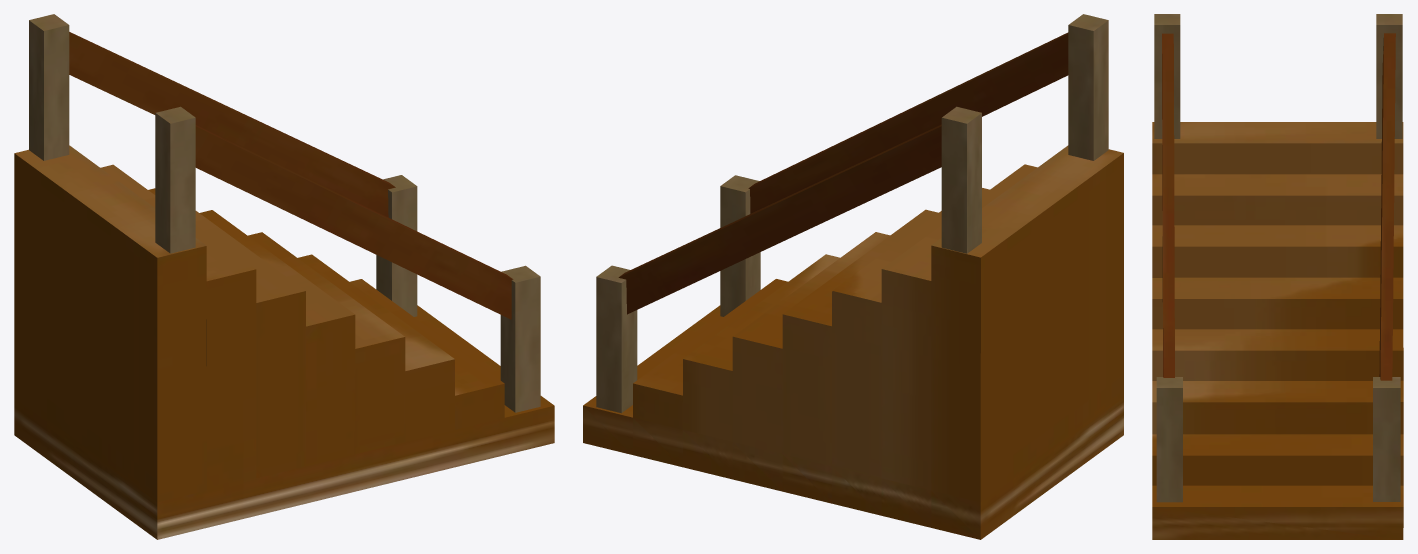
The model's file is Stairs2.glb.
3 renders of one model, left to right at view 1: azimuth 30°, elevation 25°; view 2: azimuth 150°, elevation 25°; view 3: azimuth 270°, elevation 25°, orthographic. The views are drawn at different scales.
Visible parts, largest first — view 1: Stairs2_joined.002; view 2: Stairs2_joined.002; view 3: Stairs2_joined.002.
Part boxes in pixels (x1,y1,x2,y2): Stairs2_joined.002: [14, 14, 554, 539]; Stairs2_joined.002: [583, 14, 1123, 539]; Stairs2_joined.002: [1152, 14, 1403, 539].
Size of the model in its own units: 1.55 by 1.54 by 0.9688.
1 material, 1 textured.
